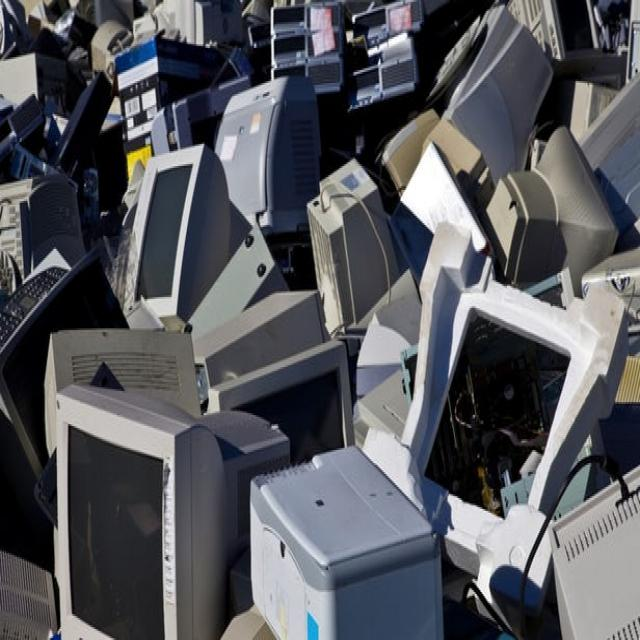hazard: (3, 56, 577, 614)
